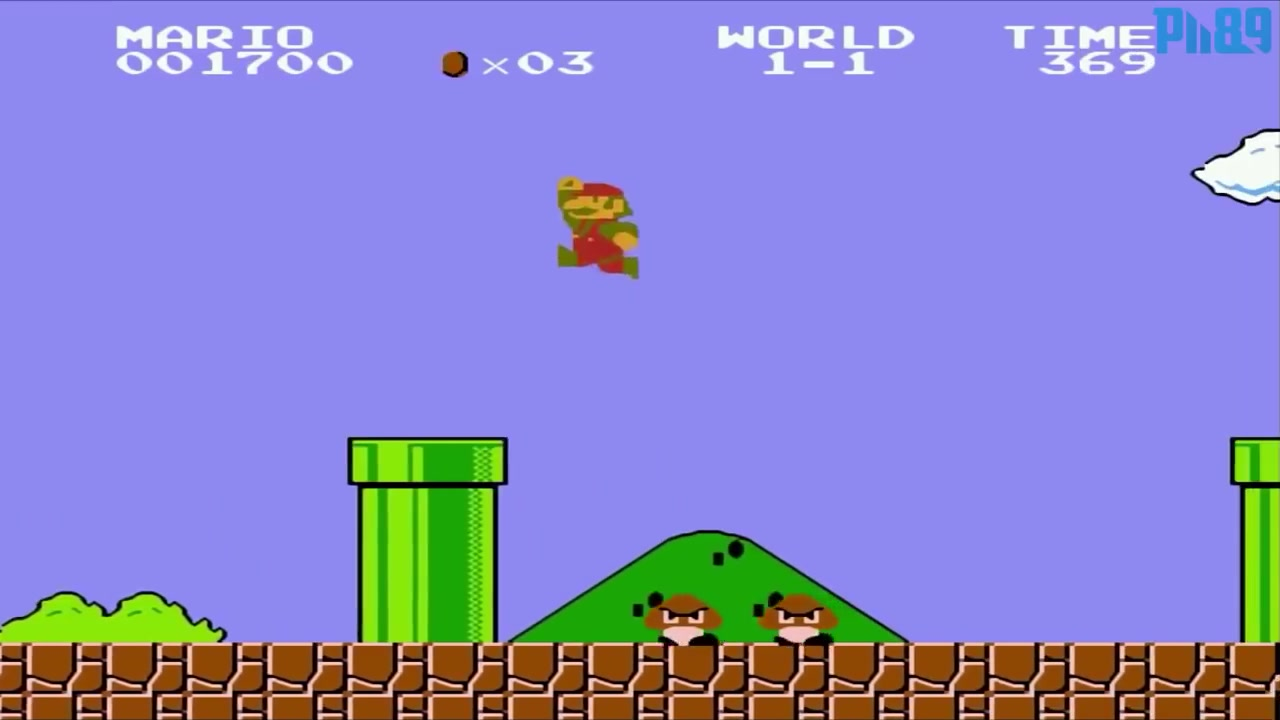mario: (546, 172, 650, 287)
